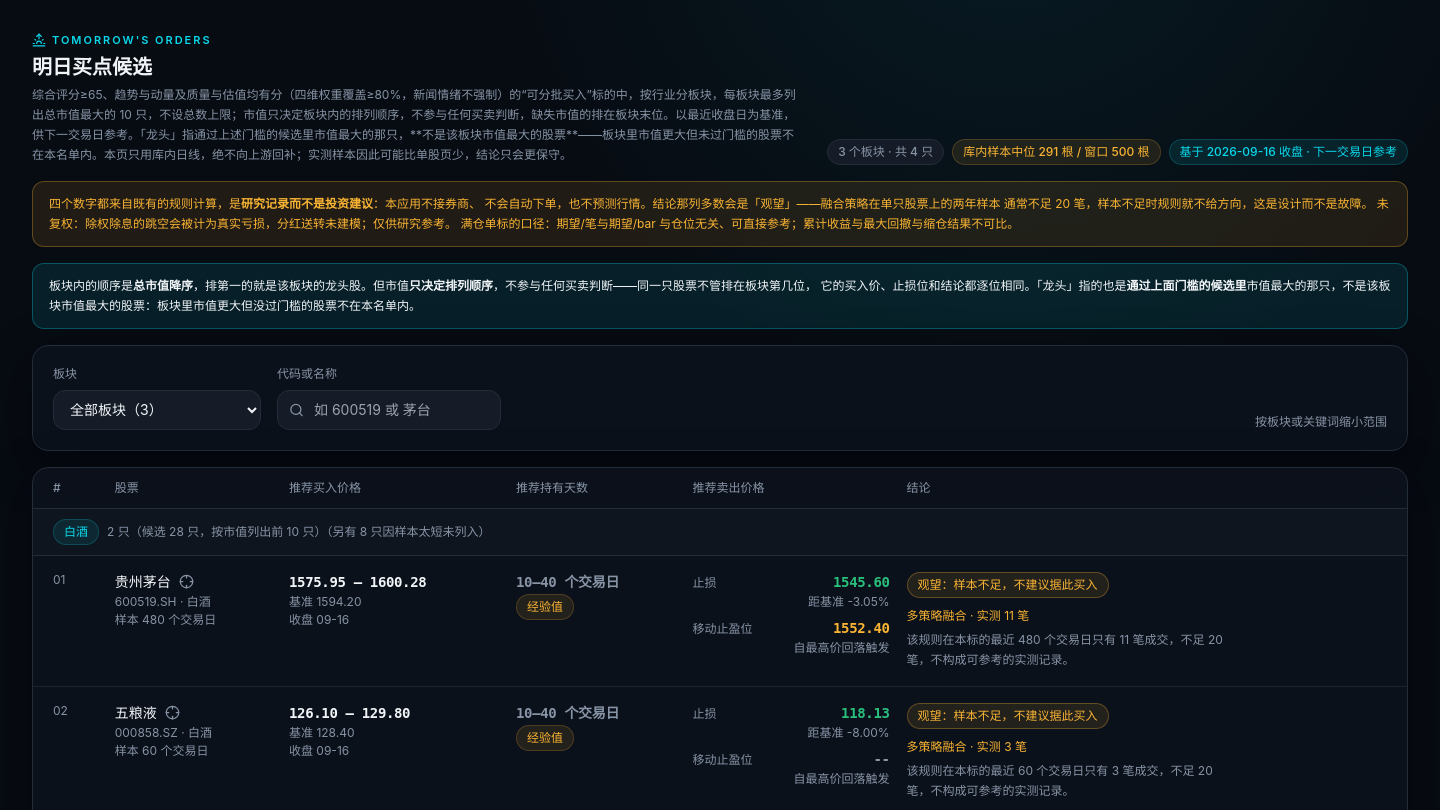
Test case: TomorrowPage › 打字防抖后按关键词筛行，输入框不被 URL 回填覆盖
Expected: the text "1575.95 – 1600.28" is shown, [289,574,426,590]
Type "五粮液" into the field named "筛选本页股票" at point(389, 410), box [277,390,501,430]
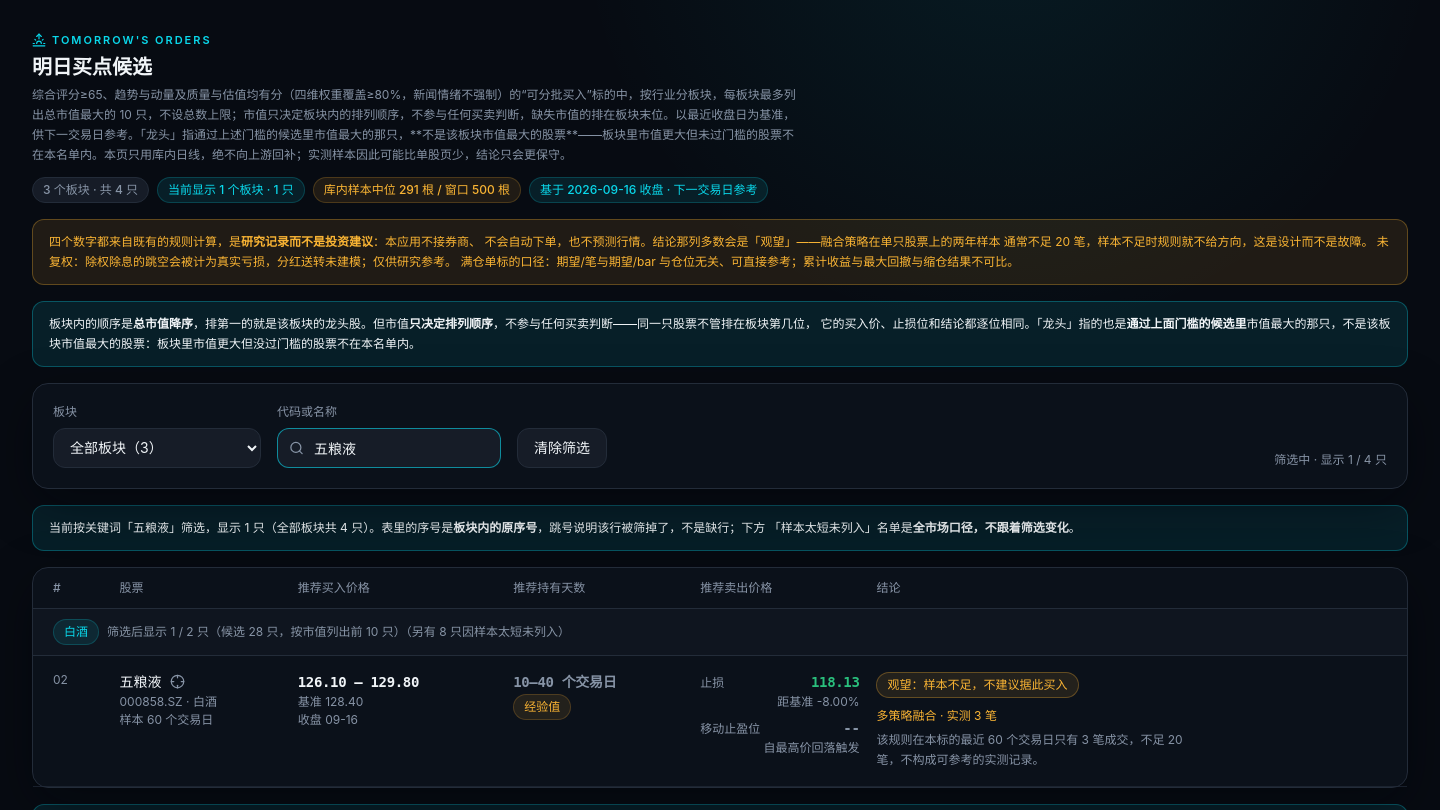
Expected: the link "五粮液" is shown, [120,672,162,692]
Expected: the link "贵州茅台" is gone
